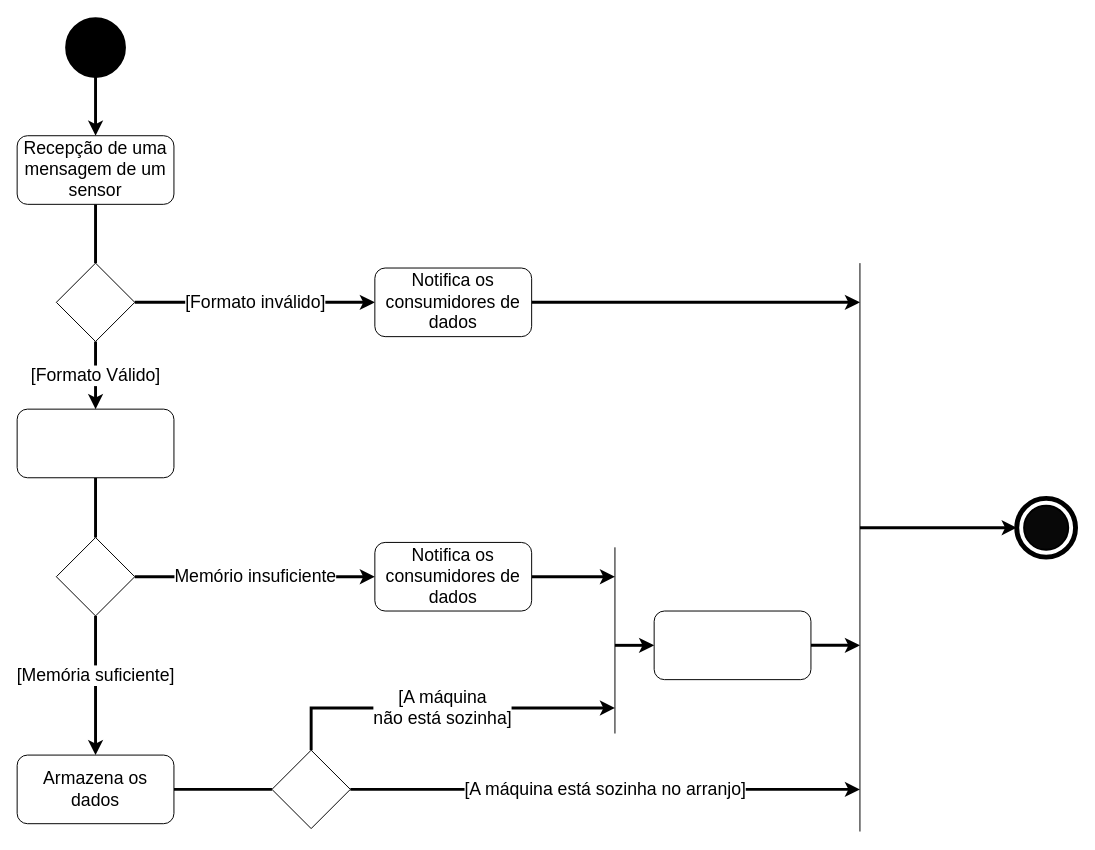
Image size: 1095x850. Some labels were removed from this diagram. Here are the shapes that lost their labels. From the top down, the centre of each, then its label:
At pixel 95 443: "Obtém os dados da mensagem".
At pixel 732 645: "Notifica outras máquinas com o dado".
